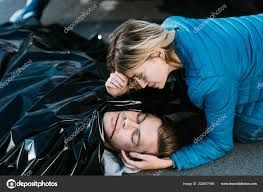no-mask: (103, 20, 190, 92), (93, 105, 185, 162)
